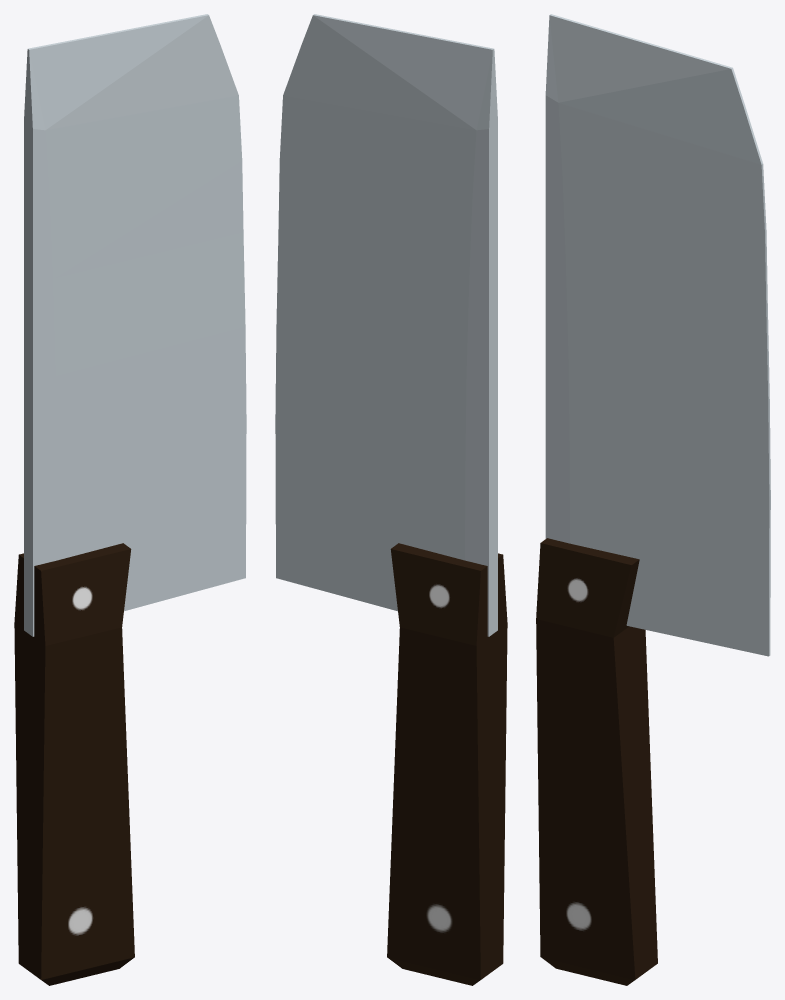
The model's file is Cleaver.dae.
The picture shows the model from 3 angles, left to right: view 1: azimuth 30°, elevation 25°; view 2: azimuth 150°, elevation 25°; view 3: azimuth 330°, elevation 25°; orthographic projection.
Visible parts, largest first — view 1: Cube.006; view 2: Cube.006; view 3: Cube.006.
Part boxes in pixels (box(x1,y1,x2,y2)): Cube.006: box(14, 14, 246, 985); Cube.006: box(275, 14, 507, 985); Cube.006: box(536, 14, 770, 985).
Size of the model in its own units: 0.0725 by 0.0179 by 0.2977.
2 materials, 1 textured.
